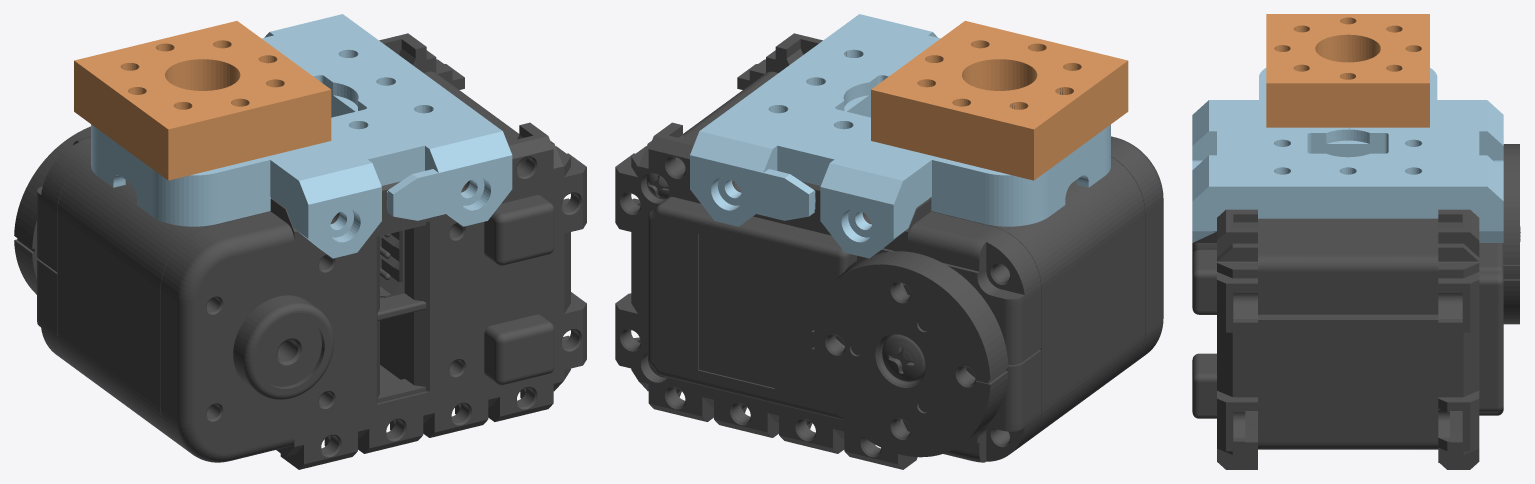
File: rear_left_link.dae
The picture shows the model from 3 angles, left to right: view 1: azimuth 30°, elevation 25°; view 2: azimuth 150°, elevation 25°; view 3: azimuth 270°, elevation 25°; orthographic projection. The views are drawn at different scales.
Parts seen in each view (by area): view 1: tmp_export_rear_left_link; view 2: tmp_export_rear_left_link; view 3: tmp_export_rear_left_link.
Part boxes in pixels (x1,y1,x2,y2): tmp_export_rear_left_link: [14, 14, 586, 469]; tmp_export_rear_left_link: [615, 14, 1163, 469]; tmp_export_rear_left_link: [1192, 14, 1520, 469].
Bounding box in the file's own units: 0.05 × 0.04 × 0.041.
